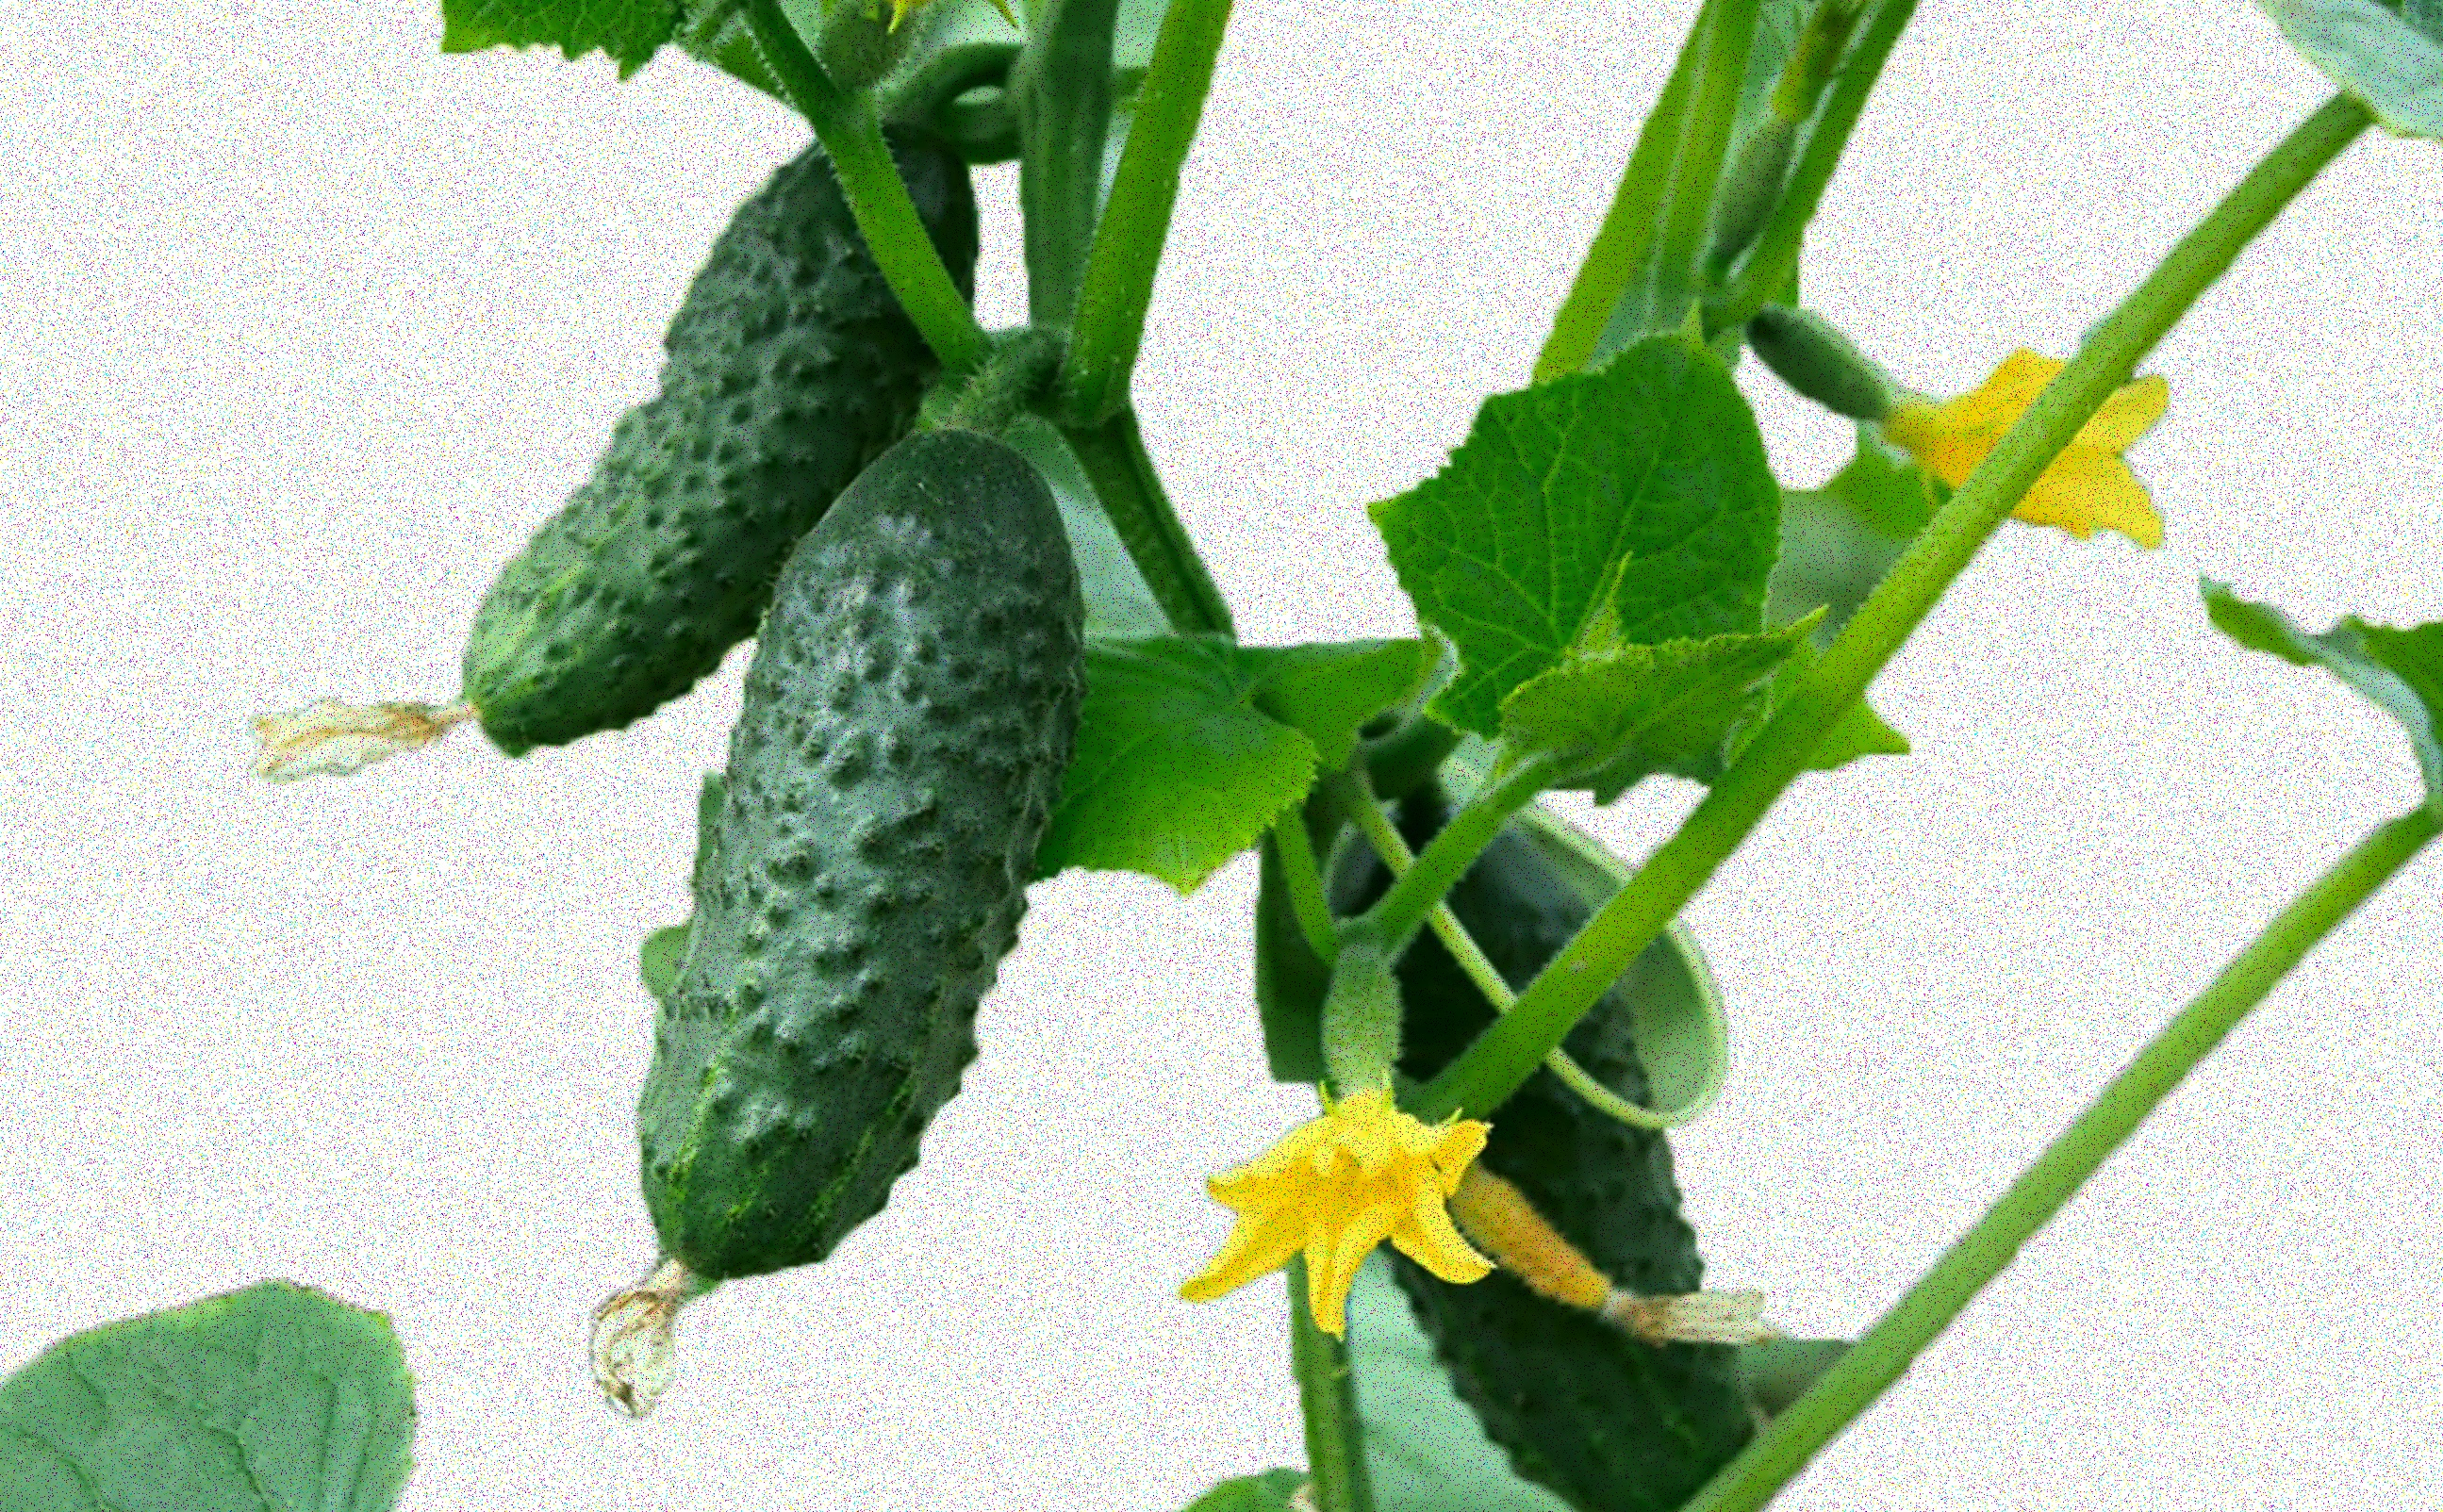cucumber: (405, 99, 1024, 773), (633, 434, 1078, 1294)
cucumber_plant: (1139, 9, 2202, 1503)
